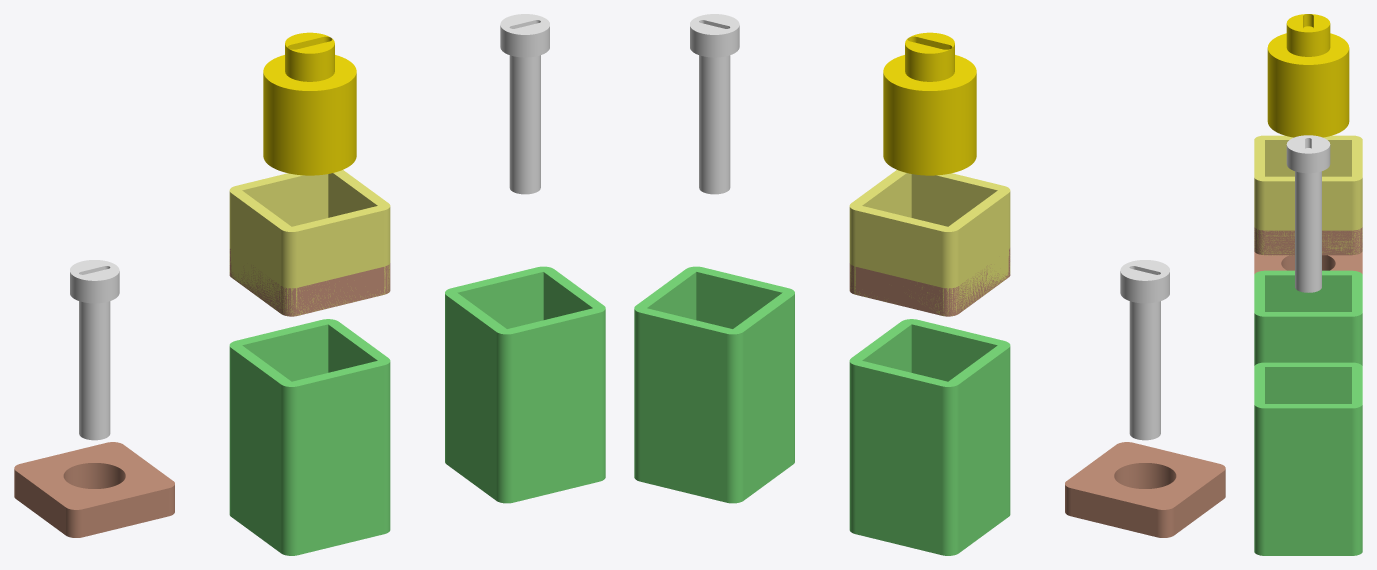
The model's file is kompleks_montaj_ornek.gltf.
3 views of the same model, side by side, from view 1: azimuth 30°, elevation 25°; view 2: azimuth 150°, elevation 25°; view 3: azimuth 270°, elevation 25° (orthographic). The views are drawn at different scales.
Visible parts, largest first — view 1: yesil_taban_part, sag_yesil_part, sari_kutu_part, sari_baslik_part, sol_kahverengi_part, sol_vida_part, sag_vida_part, kahverengi_baglanti_part; view 2: yesil_taban_part, sag_yesil_part, sari_kutu_part, sari_baslik_part, sol_kahverengi_part, sol_vida_part, sag_vida_part, kahverengi_baglanti_part; view 3: sag_yesil_part, yesil_taban_part, sari_baslik_part, sari_kutu_part, sag_vida_part, kahverengi_baglanti_part, sol_kahverengi_part.
Boxes of the visible parts, x1=… form: yesil_taban_part: x1=229, y1=319, x2=390, y2=555; sag_yesil_part: x1=445, y1=266, x2=605, y2=503; sari_kutu_part: x1=229, y1=170, x2=390, y2=315; sari_baslik_part: x1=263, y1=32, x2=356, y2=175; sol_kahverengi_part: x1=14, y1=442, x2=174, y2=537; sol_vida_part: x1=70, y1=260, x2=119, y2=440; sag_vida_part: x1=500, y1=14, x2=549, y2=194; kahverengi_baglanti_part: x1=229, y1=248, x2=390, y2=316; yesil_taban_part: x1=849, y1=319, x2=1010, y2=555; sag_yesil_part: x1=634, y1=266, x2=794, y2=503; sari_kutu_part: x1=849, y1=170, x2=1010, y2=316; sari_baslik_part: x1=883, y1=32, x2=976, y2=175; sol_kahverengi_part: x1=1065, y1=442, x2=1225, y2=537; sol_vida_part: x1=1120, y1=260, x2=1169, y2=440; sag_vida_part: x1=690, y1=14, x2=739, y2=194; kahverengi_baglanti_part: x1=849, y1=248, x2=1010, y2=316; sag_yesil_part: x1=1254, y1=362, x2=1362, y2=555; yesil_taban_part: x1=1254, y1=270, x2=1362, y2=365; sari_baslik_part: x1=1267, y1=14, x2=1349, y2=137; sari_kutu_part: x1=1254, y1=135, x2=1362, y2=255; sag_vida_part: x1=1286, y1=135, x2=1330, y2=292; kahverengi_baglanti_part: x1=1254, y1=227, x2=1362, y2=255; sol_kahverengi_part: x1=1254, y1=252, x2=1362, y2=273.
Bounding box in the file's own units: 100 × 85 × 20.
